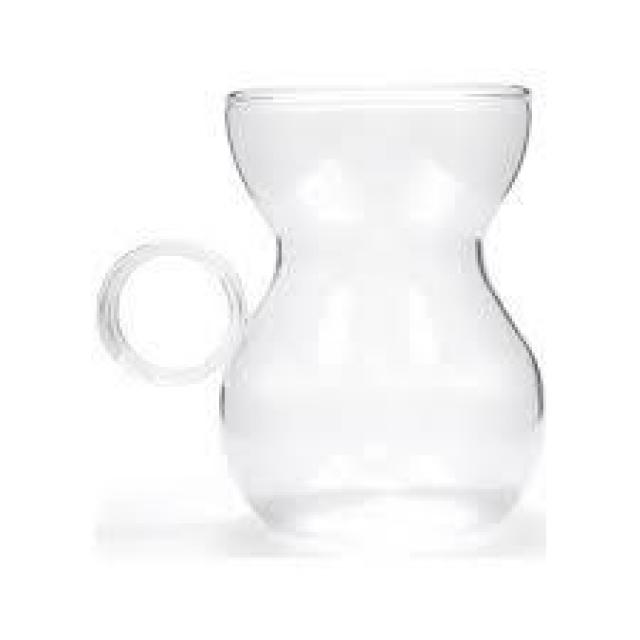non-organic waste: (94, 86, 546, 548)
